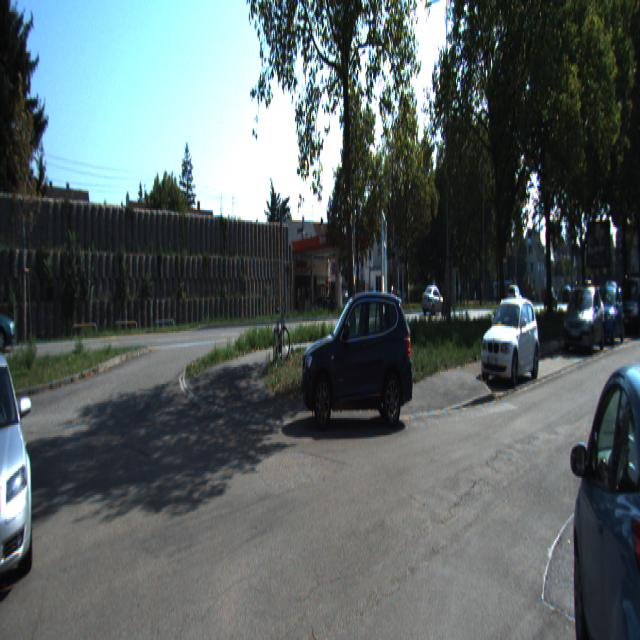Car: (572, 319, 639, 638), (297, 276, 417, 429), (0, 330, 40, 596), (477, 298, 541, 392), (560, 283, 606, 354), (0, 283, 18, 352), (419, 285, 446, 319)
